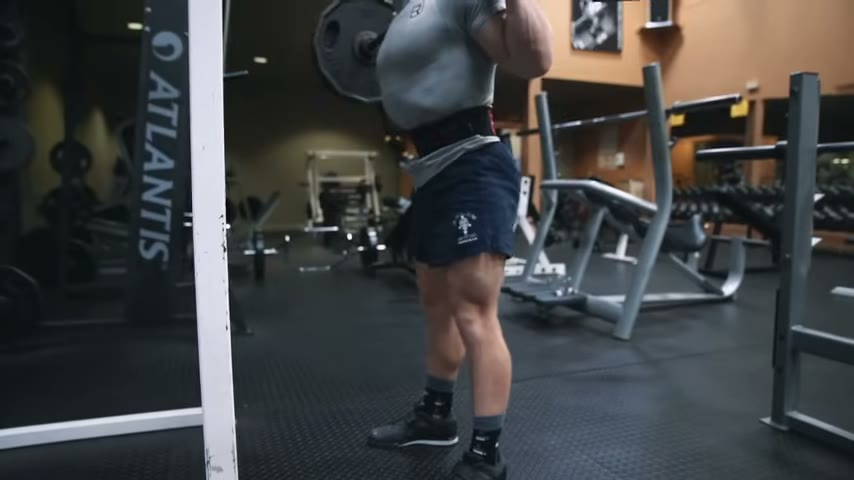barbell_plate_side: (313, 0, 388, 151)
